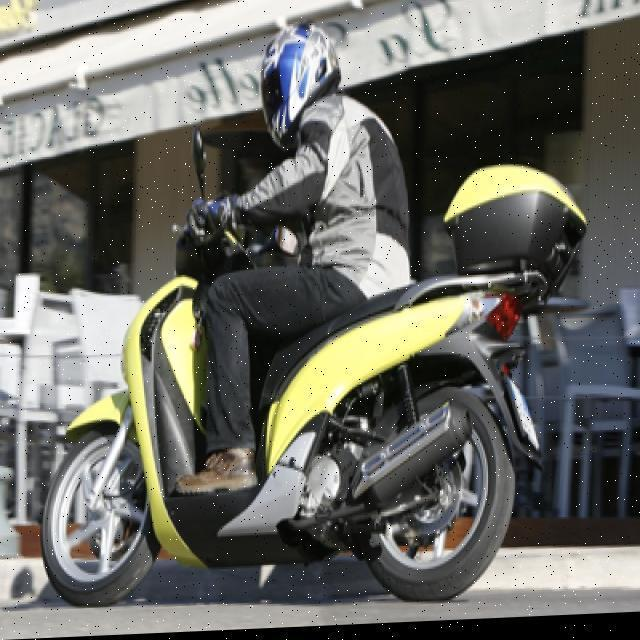Helmet: (256, 10, 338, 158)
